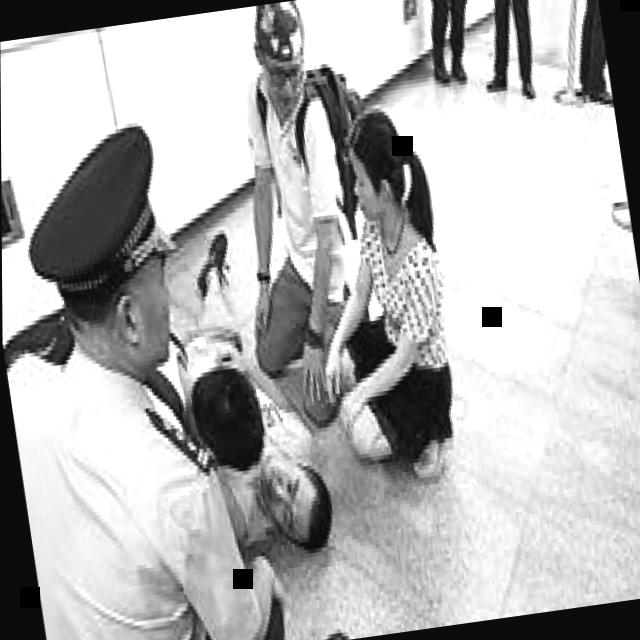Fall-Detected: (127, 217, 332, 548)
